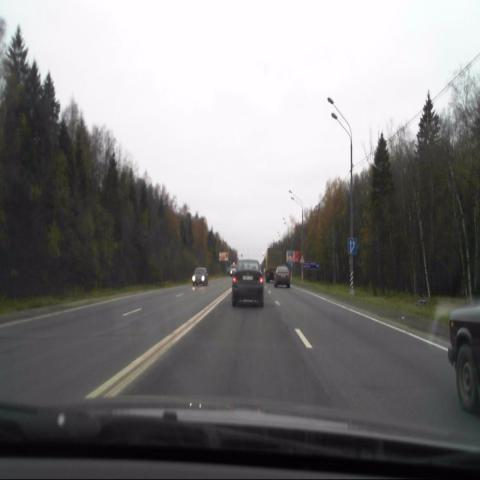5_15_3: (347, 238, 357, 254)
